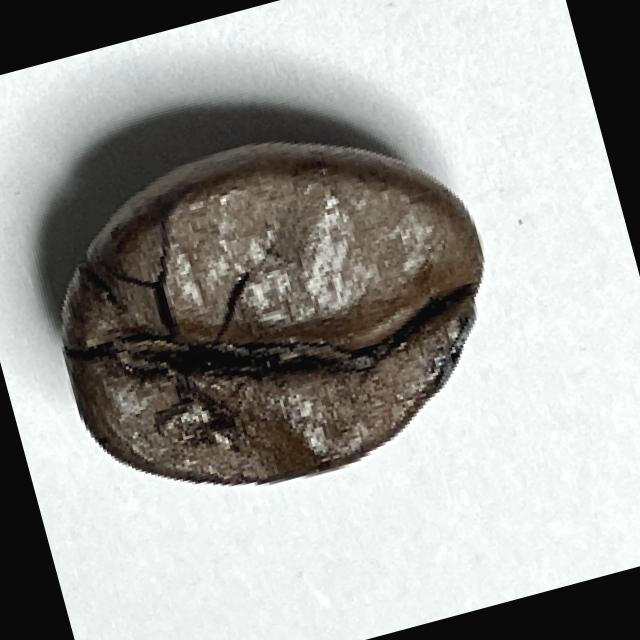bean: (17, 89, 528, 530)
